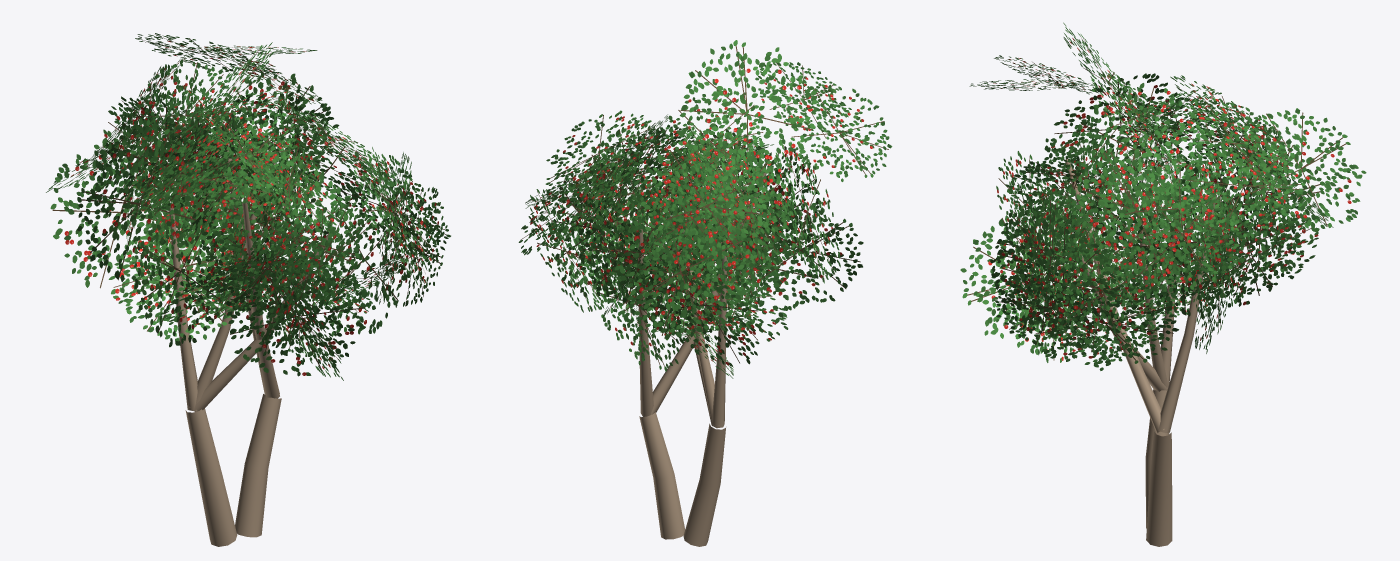
Rendered from eugenia-uniflora.glb.
The picture shows the model from 3 angles, left to right: view 1: azimuth 30°, elevation 25°; view 2: azimuth 150°, elevation 25°; view 3: azimuth 270°, elevation 25°; orthographic projection. The views are drawn at different scales.
Parts seen in each view (by area): view 1: folhas, tronco; view 2: folhas, tronco; view 3: folhas, tronco.
Part boxes in pixels (x1,y1,x2,y2): folhas: (46,33,450,380); tronco: (169,143,329,546); folhas: (518,40,892,378); tronco: (637,173,766,546); folhas: (960,22,1366,370); tronco: (1065,158,1217,546).
Size of the model in its own units: 3.42 by 5 by 4.
2 materials, 1 textured.
